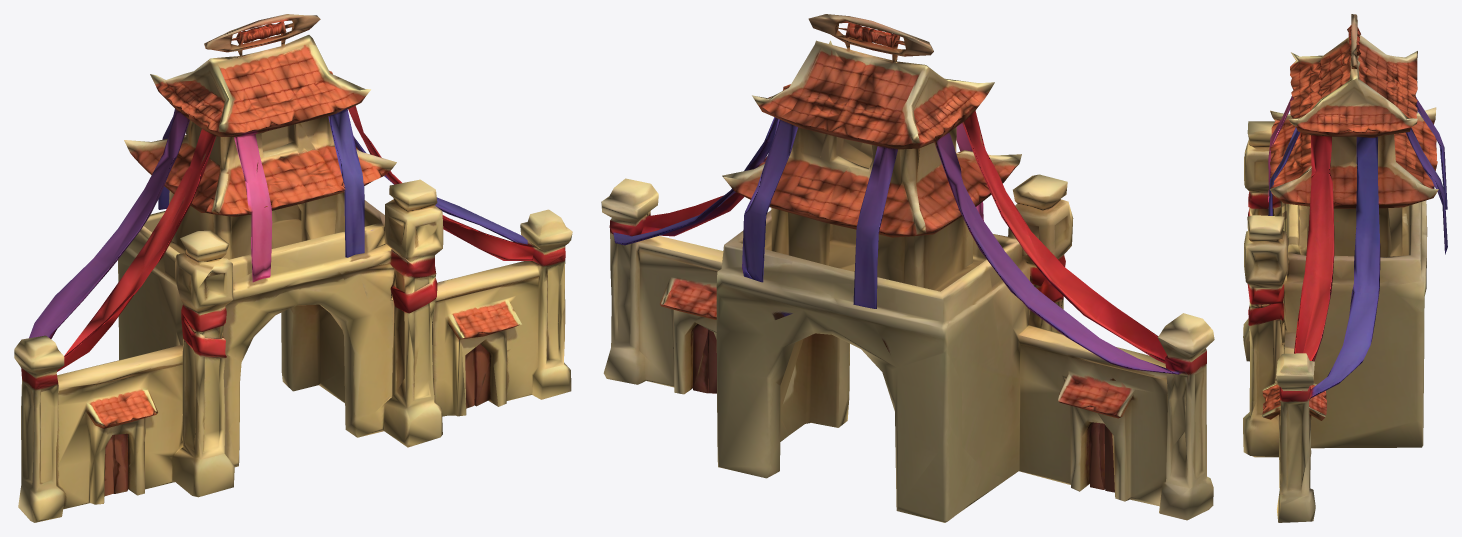
Rendered from cong-lang-det.211098e3.glb.
3 views of the same model, side by side, from view 1: azimuth 30°, elevation 25°; view 2: azimuth 150°, elevation 25°; view 3: azimuth 270°, elevation 25° (orthographic). The views are drawn at different scales.
Visible parts, largest first — view 1: tripo_node_4edadad4-5720-47c2-8cad-e43b7fd33daa; view 2: tripo_node_4edadad4-5720-47c2-8cad-e43b7fd33daa; view 3: tripo_node_4edadad4-5720-47c2-8cad-e43b7fd33daa.
Part boxes in pixels (x1,y1,x2,y2): tripo_node_4edadad4-5720-47c2-8cad-e43b7fd33daa: [14, 14, 572, 522]; tripo_node_4edadad4-5720-47c2-8cad-e43b7fd33daa: [601, 14, 1214, 522]; tripo_node_4edadad4-5720-47c2-8cad-e43b7fd33daa: [1243, 14, 1447, 522].
Bounding box in the file's own units: 0.9776 × 0.7021 × 0.349.
1 material, 1 textured.
